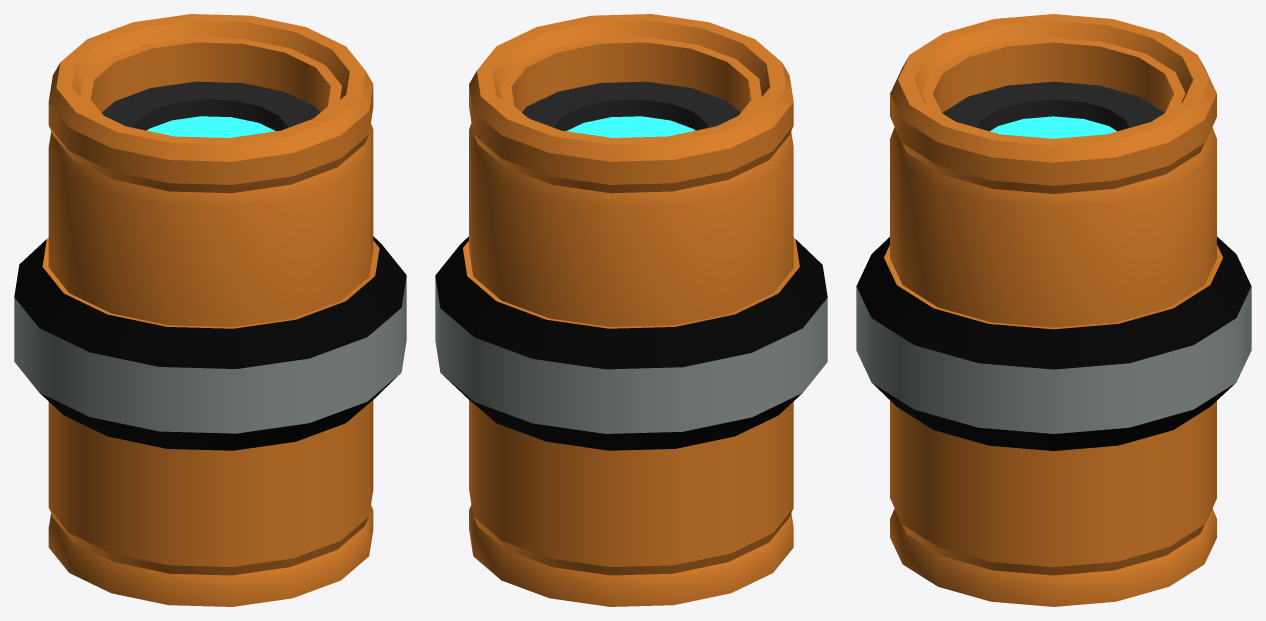
File: Environment2_Cover_Drum.fbx
3 renders of one model, left to right at view 1: azimuth 30°, elevation 25°; view 2: azimuth 150°, elevation 25°; view 3: azimuth 270°, elevation 25°, orthographic.
Visible parts, largest first — view 1: Cylinder; view 2: Cylinder; view 3: Cylinder.
Boxes of the visible parts, bbox=[...] form: Cylinder: bbox=[14, 14, 406, 606]; Cylinder: bbox=[435, 14, 827, 606]; Cylinder: bbox=[856, 14, 1251, 606].
Size of the model in its own units: 2.42 by 3.09 by 2.42.
